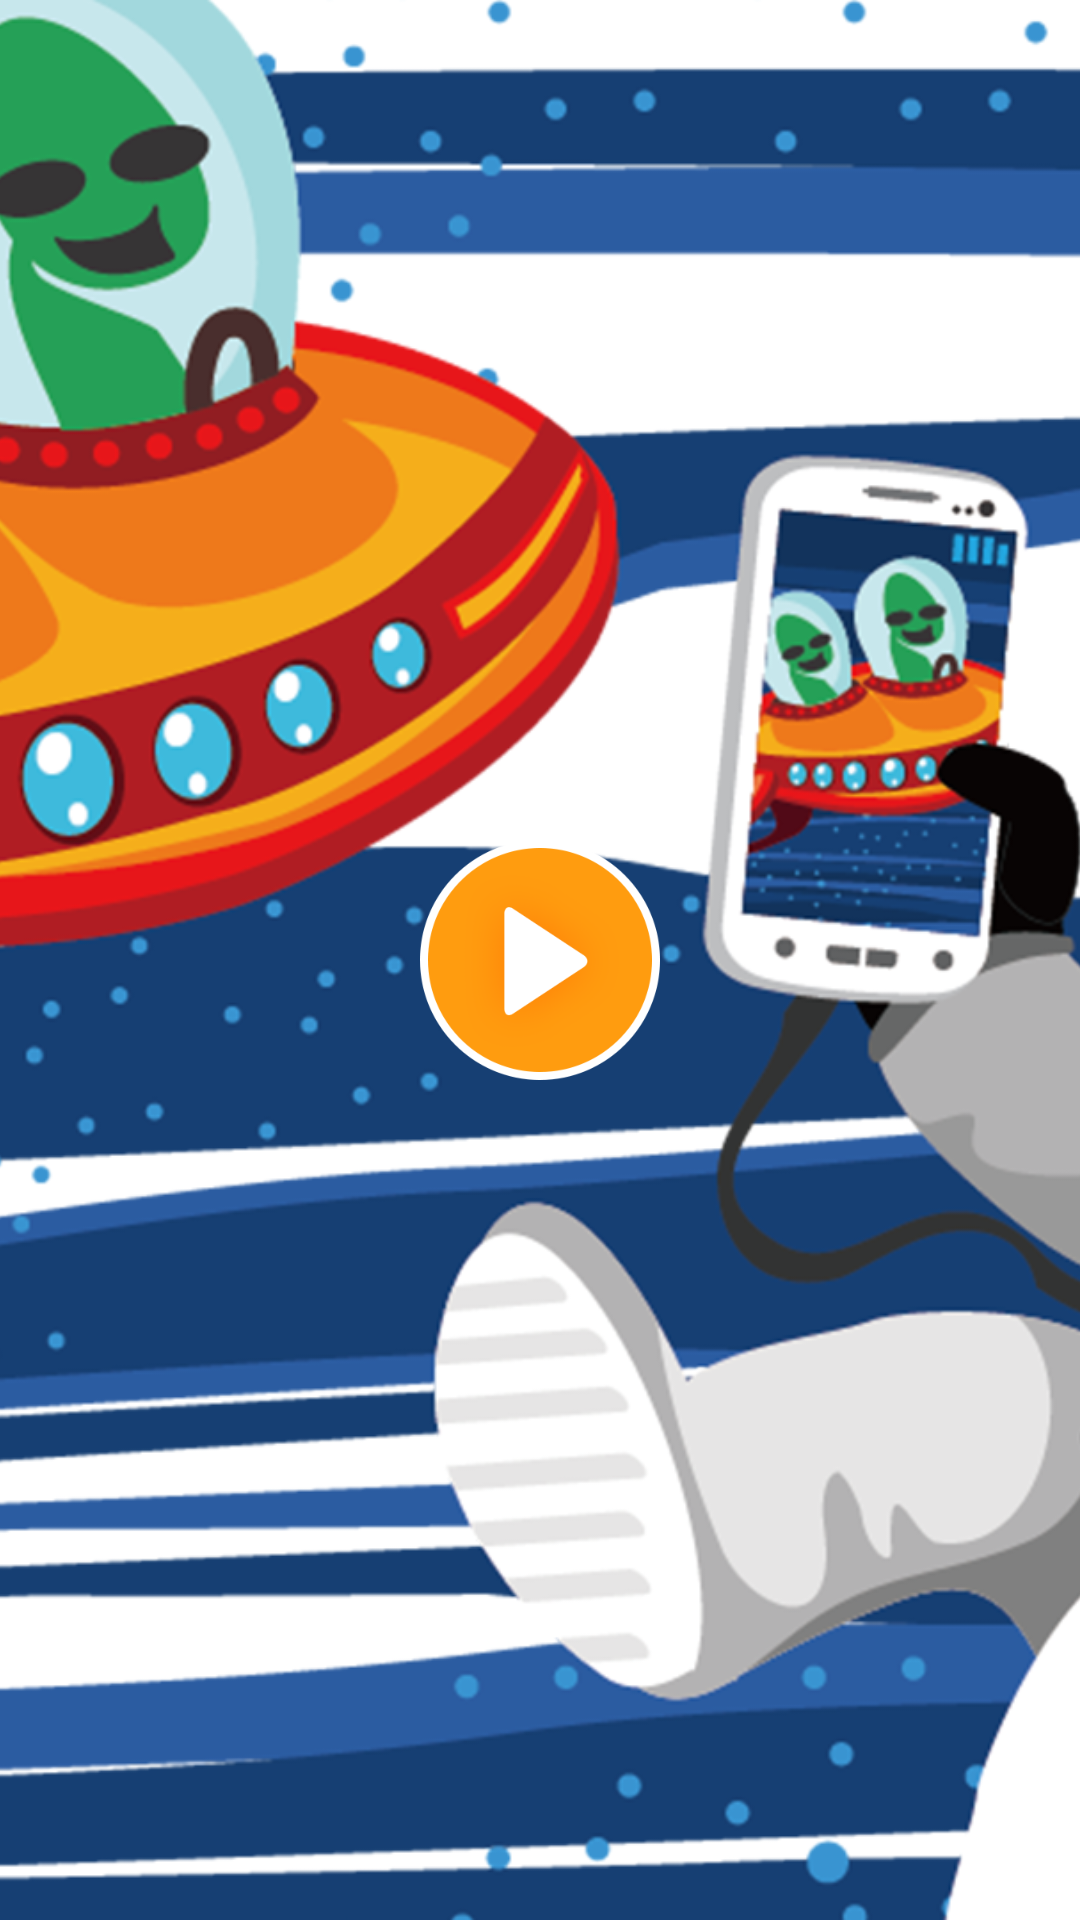

Icons on this 1080×1920 Android screen, each with the point to tap as [x,y]:
start: [540,960]
